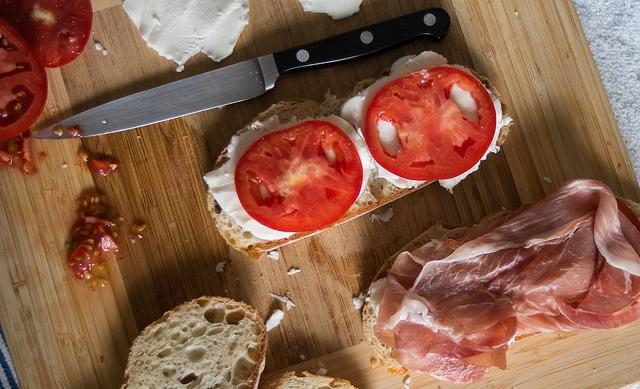tomato: (366, 66, 496, 180), (234, 120, 364, 232), (1, 1, 92, 68), (0, 17, 48, 141), (67, 222, 121, 280), (78, 150, 120, 177)
